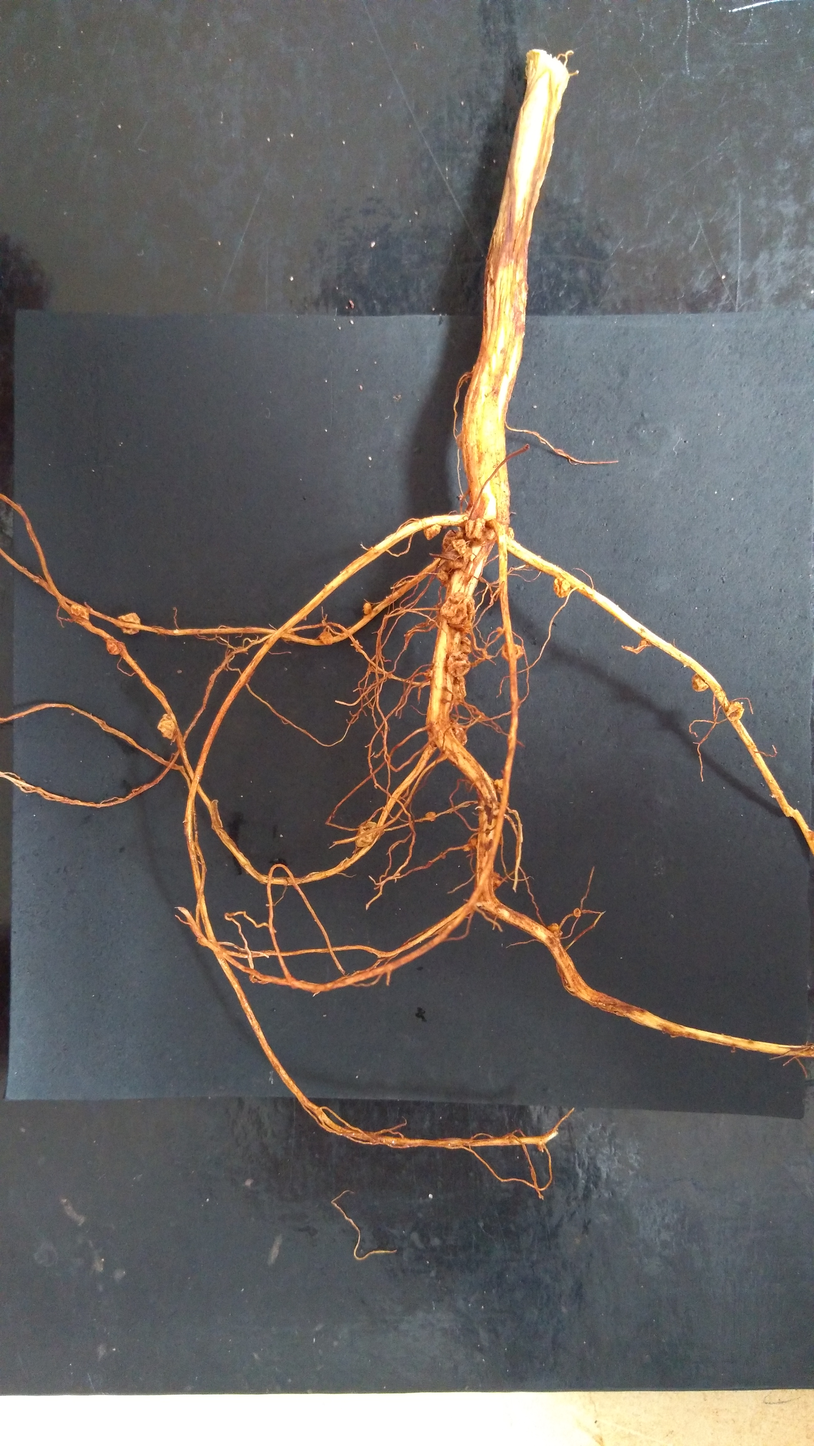nodule: (439, 591, 475, 634), (442, 539, 474, 570), (464, 517, 497, 547), (355, 821, 380, 849), (446, 651, 471, 678), (448, 717, 468, 748), (157, 713, 178, 742), (117, 612, 143, 635), (442, 529, 465, 554), (500, 641, 525, 662), (436, 560, 454, 586), (690, 672, 711, 693), (724, 700, 744, 722), (451, 675, 466, 704), (552, 576, 571, 598), (69, 602, 91, 621), (489, 799, 510, 817), (422, 522, 441, 541), (104, 637, 122, 657), (459, 635, 473, 656), (546, 922, 563, 938), (317, 631, 334, 646), (281, 626, 296, 643), (490, 871, 502, 891), (493, 778, 506, 795), (455, 431, 465, 450), (505, 525, 516, 541), (424, 811, 436, 822), (424, 667, 434, 680), (469, 836, 479, 848), (363, 602, 372, 615), (495, 626, 506, 636), (572, 907, 582, 918), (439, 850, 447, 861), (463, 845, 471, 853), (442, 524, 448, 530)
